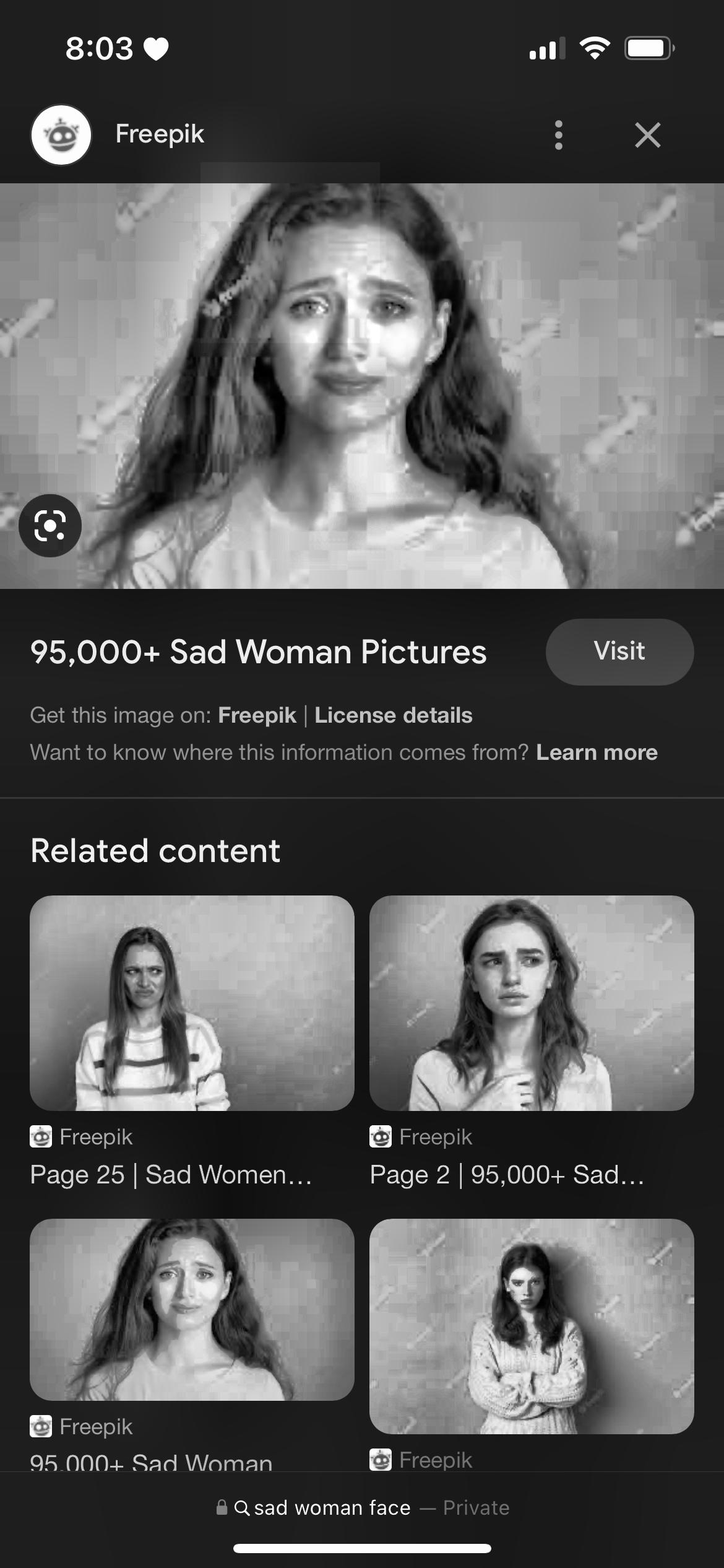sad: (248, 200, 470, 424)
